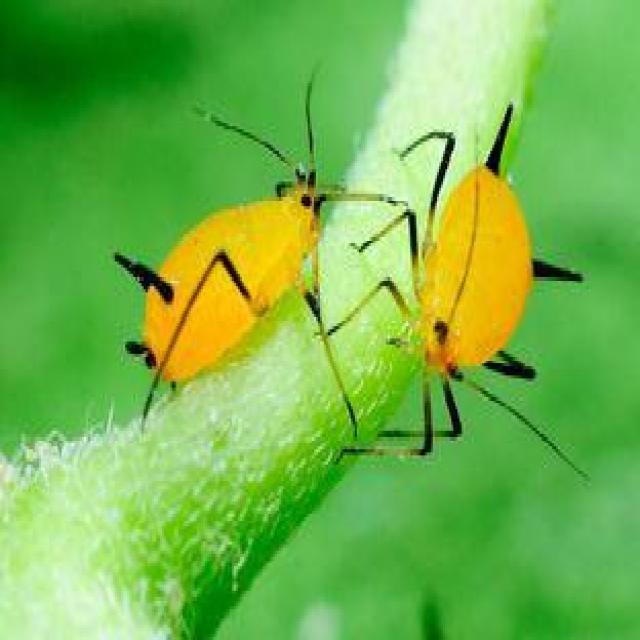Aphids: (331, 78, 596, 546), (106, 81, 364, 435)
